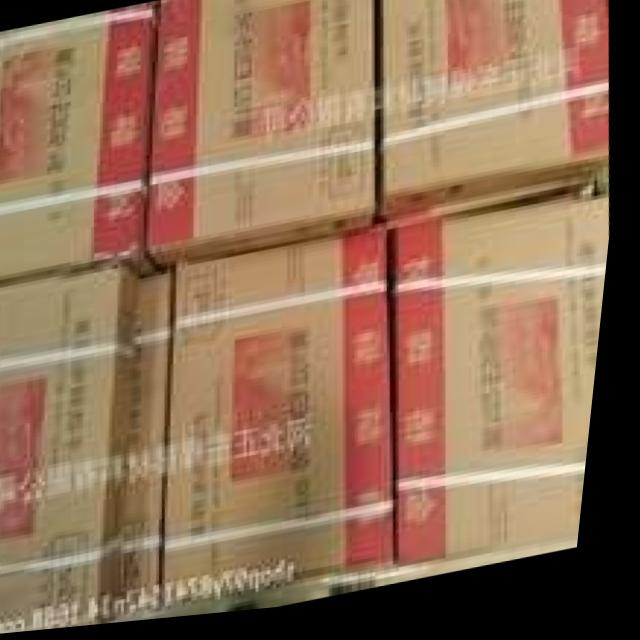box: (176, 236, 404, 612), (395, 202, 615, 575), (149, 0, 382, 275), (0, 268, 144, 636), (381, 0, 612, 229), (0, 4, 162, 286), (126, 276, 178, 616)
